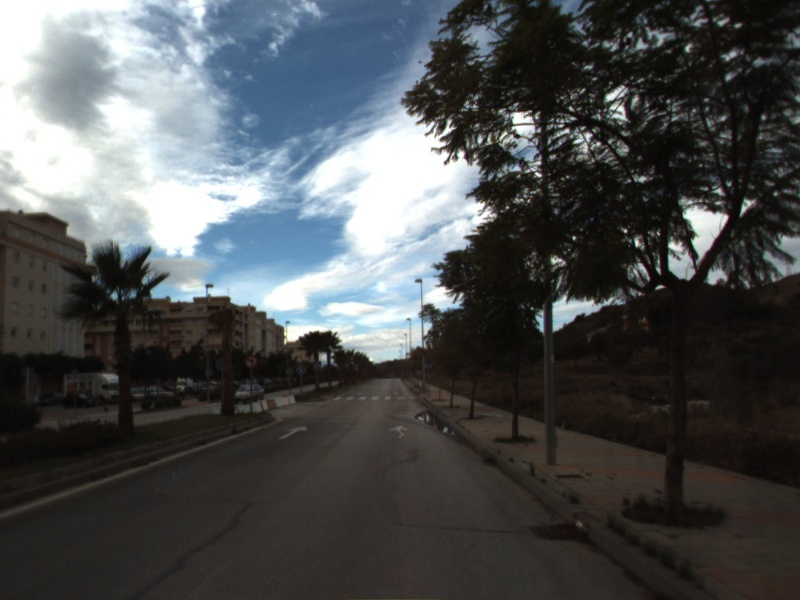STRAIGHT: (277, 424, 310, 441), (388, 423, 411, 441)
